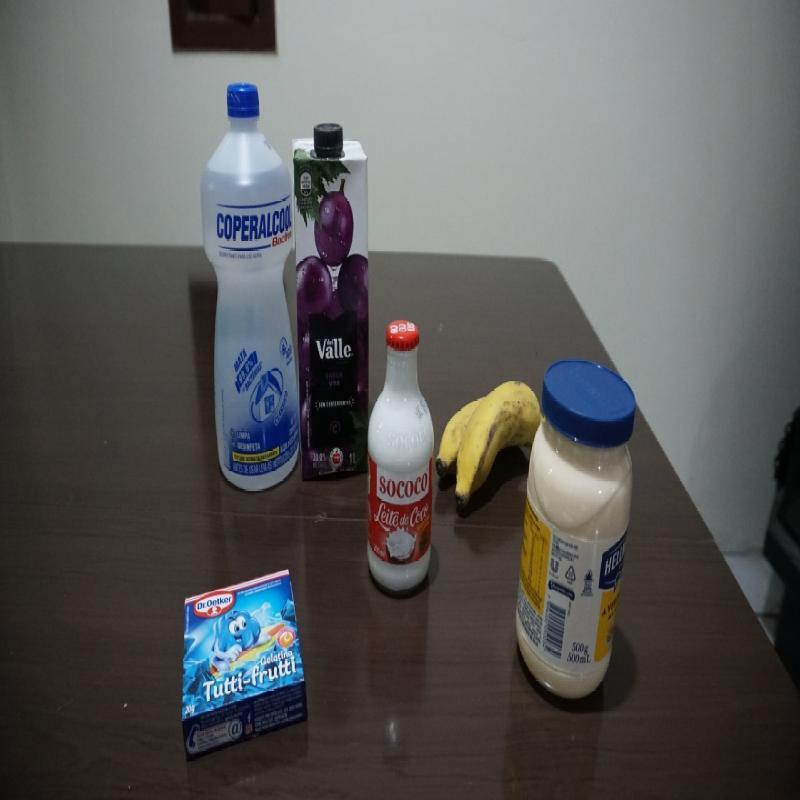Alcohol Bottle: (206, 79, 298, 498)
Banana: (436, 369, 526, 507)
Coconut Milk: (368, 320, 434, 600)
Gelatine: (171, 566, 311, 764)
Mayonnaise: (528, 361, 632, 698)
